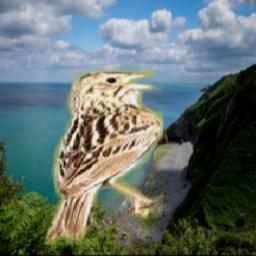Sparrow: (43, 68, 163, 245)
